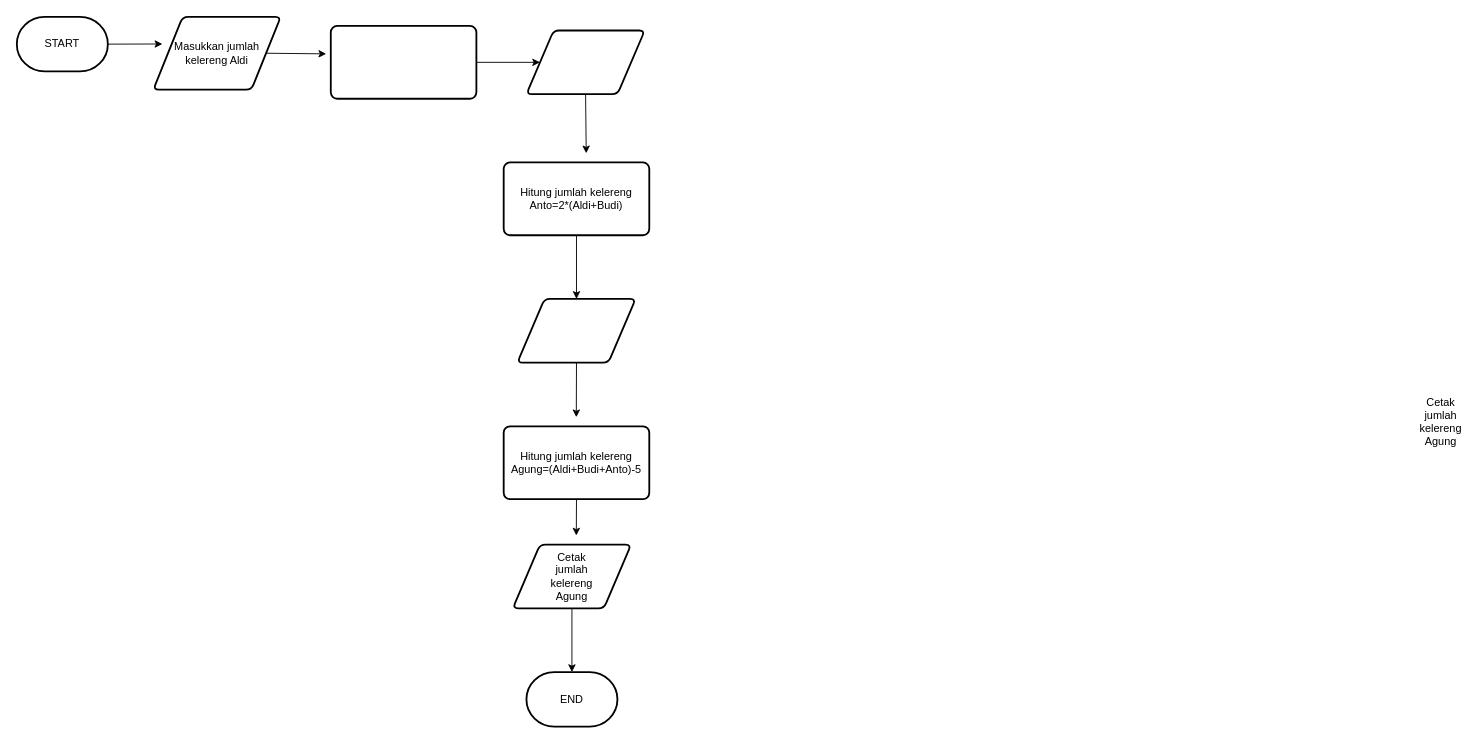
The diagram is 1483 pixels wide and 743 high, and some of its shapes have lost their labels. Here are the shapes that lost their labels. From the top down, the box of each, then its label:
(329, 25, 477, 99): Hitung jumlah kelereng Budi=Aldi-15
(525, 29, 645, 95): Cetak jumlah kelereng Budi
(516, 298, 636, 363): Cetak jumlah kelereng Anto
